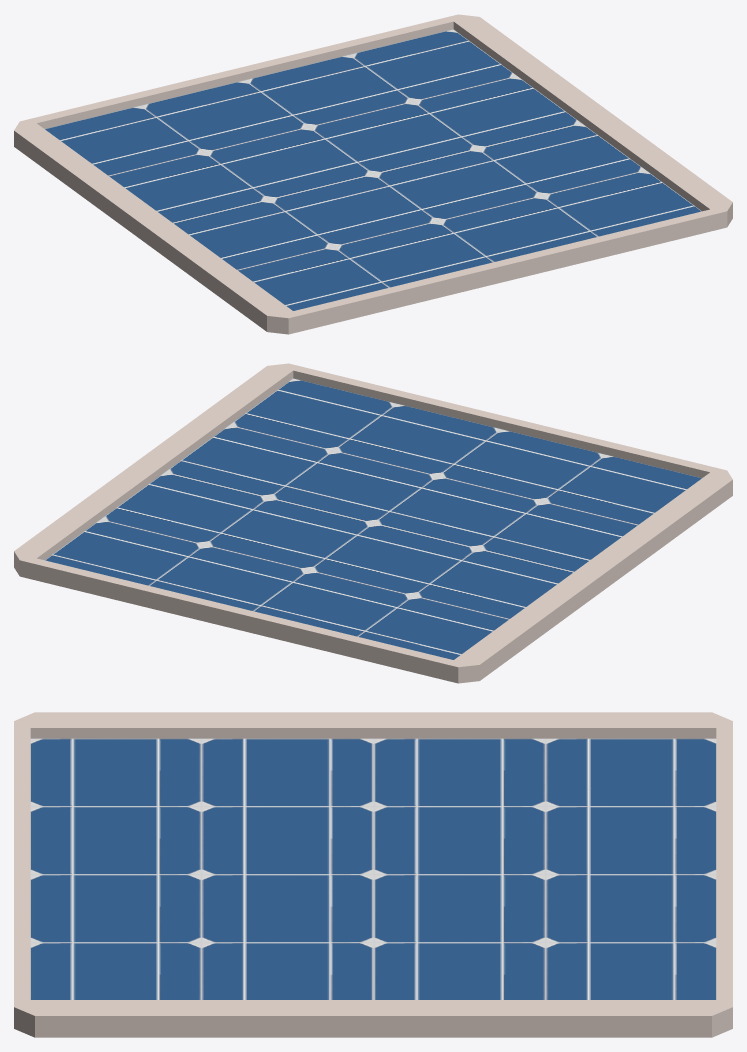
Rendered from top.fbx.
3 renders of one model, top to bottom at view 1: azimuth 30°, elevation 25°; view 2: azimuth 150°, elevation 25°; view 3: azimuth 270°, elevation 25°, orthographic. The views are drawn at different scales.
Visible parts, largest first — view 1: SolarPanel; view 2: SolarPanel; view 3: SolarPanel.
Boxes of the visible parts, x1,y1,x2,y2 form: SolarPanel: (14,14,732,334); SolarPanel: (14,363,732,683); SolarPanel: (14,712,732,1037).
Bounding box in the file's own units: 300 × 70 × 300.
1 material, 1 textured.
